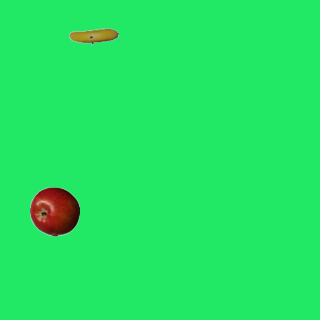Apple Braeburn: (29, 186, 79, 236)
Banana: (68, 11, 118, 61)
